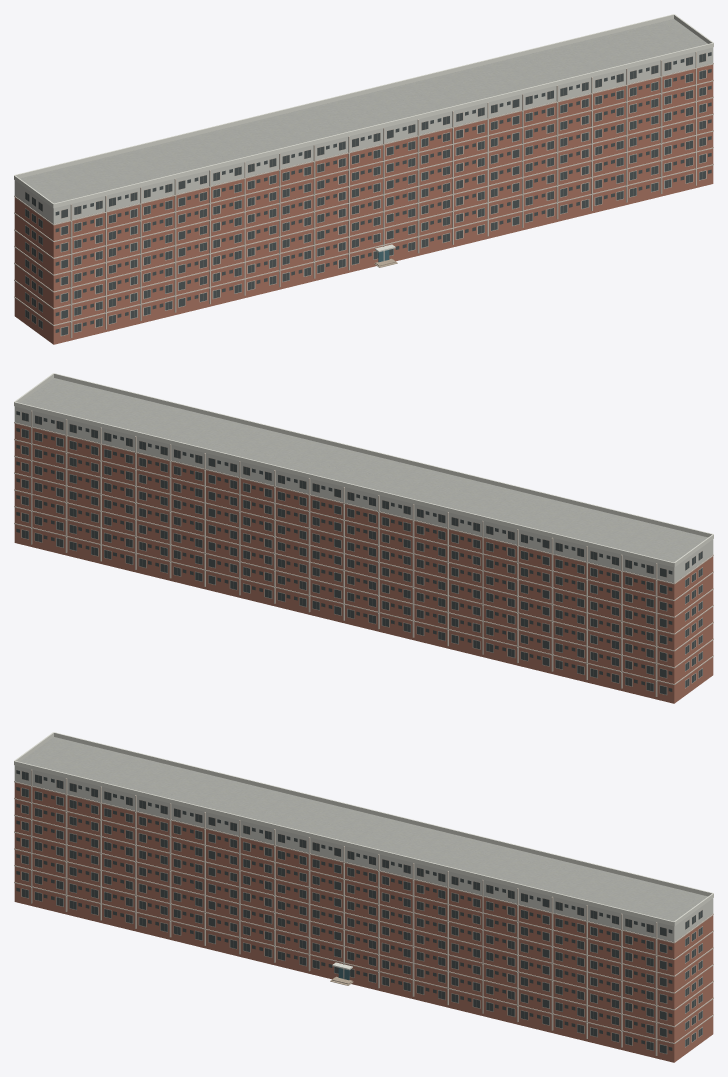
Rendered from chunk-dorm-way-759140892.glb.
3 renders of one model, top to bottom at view 1: azimuth 30°, elevation 25°; view 2: azimuth 150°, elevation 25°; view 3: azimuth 330°, elevation 25°, orthographic.
Parts seen in each view (by area): view 1: chunk-dorm-way-759140892; view 2: chunk-dorm-way-759140892; view 3: chunk-dorm-way-759140892.
Boxes of the visible parts, x1,y1,x2,y2 form: chunk-dorm-way-759140892: [14, 14, 713, 344]; chunk-dorm-way-759140892: [14, 373, 713, 703]; chunk-dorm-way-759140892: [14, 732, 713, 1062].
Bounding box in the file's own units: 136 × 27.7 × 16.07.
9 materials, 2 textured.
